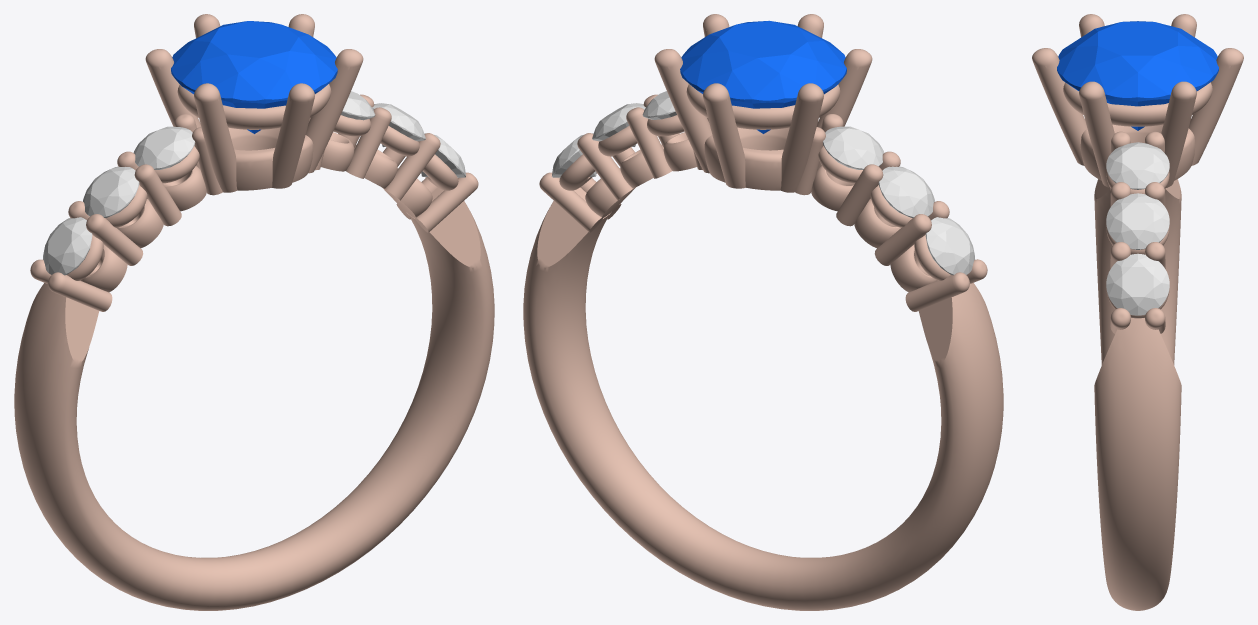
File: bluesapphire-round-rosegold-6prong-taperedband-3stone.glb
The picture shows the model from 3 angles, left to right: view 1: azimuth 30°, elevation 25°; view 2: azimuth 150°, elevation 25°; view 3: azimuth 270°, elevation 25°; orthographic projection. The views are drawn at different scales.
Visible parts, largest first — view 1: metal, stone, side.002, side.001, side, side.004, side.003; view 2: metal, stone, side.002, side.001, side, side.004, side.003; view 3: metal, stone, side.005, side.004, side.003.
Part boxes in pixels (left/top/right/bottom): metal: left=14, top=14, right=494, bottom=610; stone: left=171, top=21, right=337, bottom=133; side.002: left=43, top=217, right=92, bottom=275; side.001: left=83, top=166, right=139, bottom=217; side: left=133, top=126, right=195, bottom=169; side.004: left=372, top=103, right=425, bottom=147; side.003: left=341, top=91, right=375, bottom=120; metal: left=523, top=14, right=1003, bottom=610; stone: left=680, top=20, right=846, bottom=133; side.002: left=925, top=217, right=974, bottom=275; side.001: left=878, top=166, right=934, bottom=217; side: left=823, top=126, right=884, bottom=169; side.004: left=592, top=103, right=645, bottom=146; side.003: left=642, top=91, right=676, bottom=119; metal: left=1032, top=14, right=1243, bottom=610; stone: left=1057, top=21, right=1218, bottom=130; side.005: left=1106, top=253, right=1169, bottom=315; side.004: left=1106, top=193, right=1169, bottom=249; side.003: left=1106, top=142, right=1169, bottom=189.
Size of the model in its own units: 20.49 by 23.81 by 8.35.
